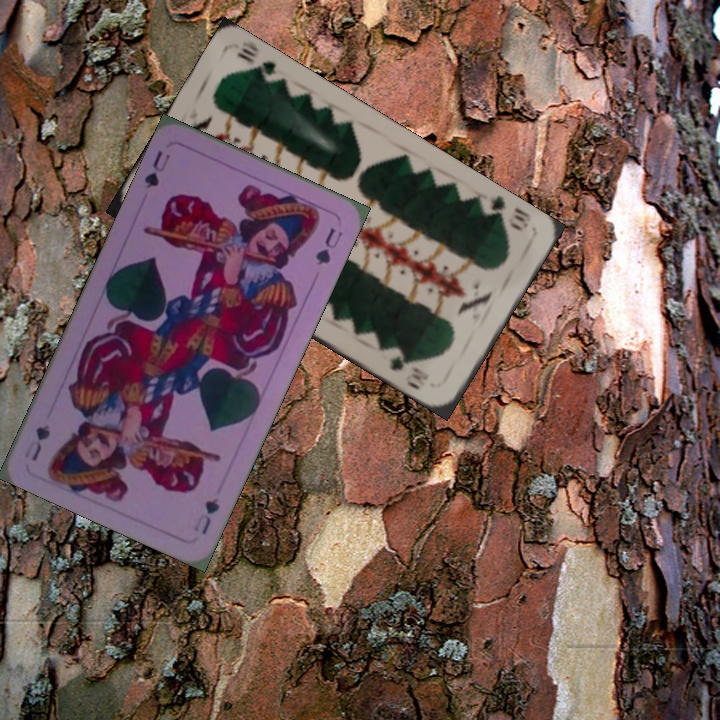G10: (477, 192, 534, 234)
GU: (189, 493, 223, 538), (140, 146, 173, 192)
